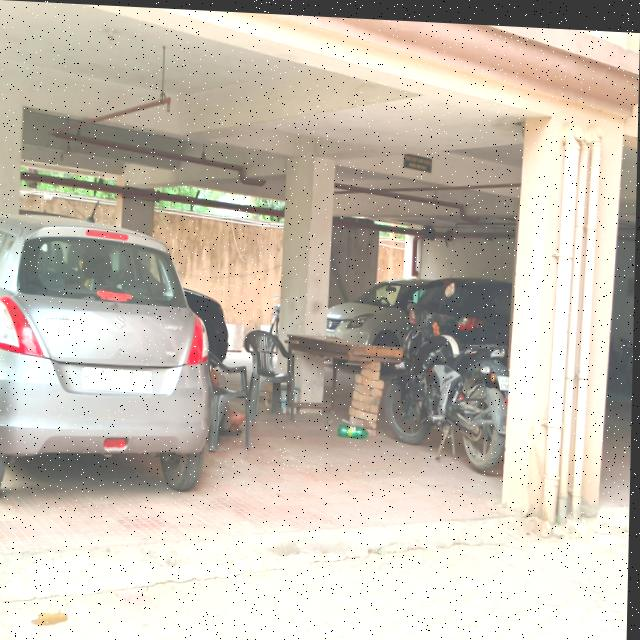bike: (384, 291, 516, 489)
car: (0, 202, 222, 529), (326, 258, 428, 339)
